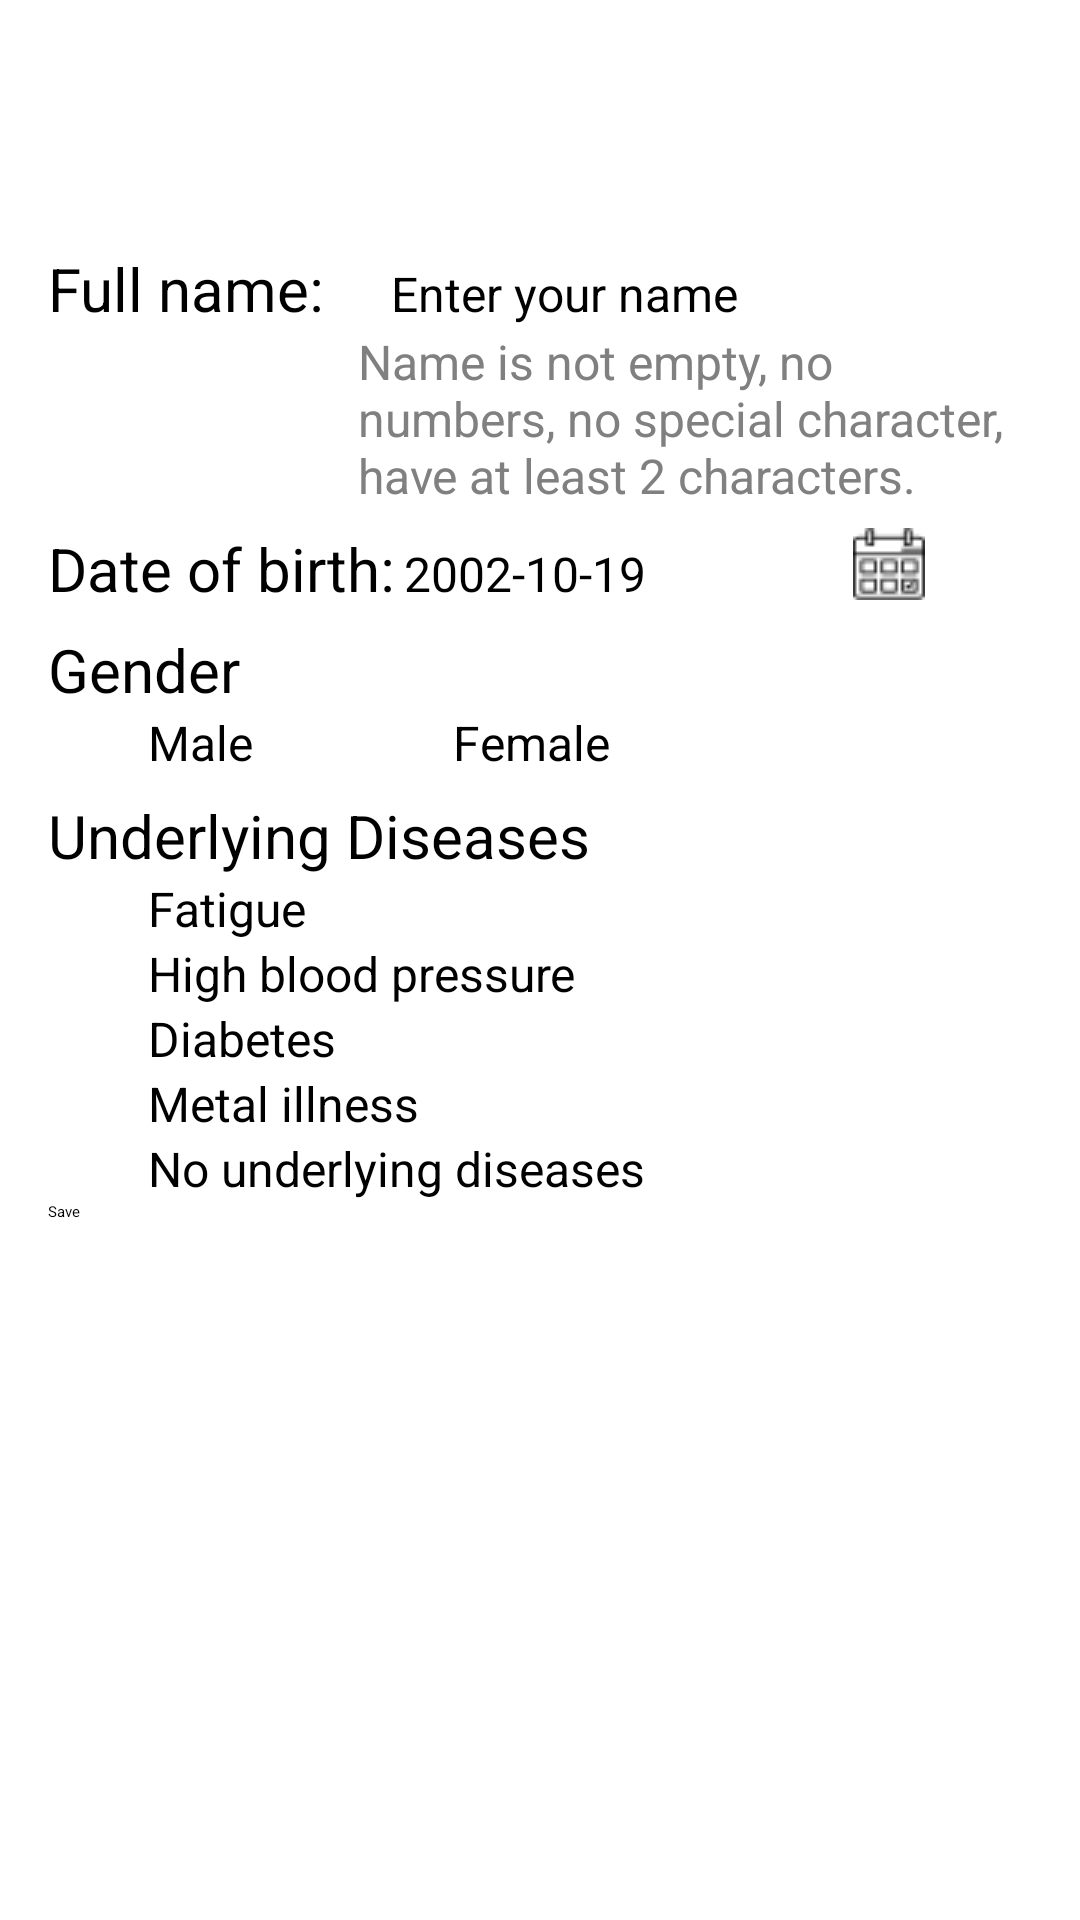

Point at icon controls on the screen. Image size 1080px x 1920px, points as [x,y].
date: [889,564]
